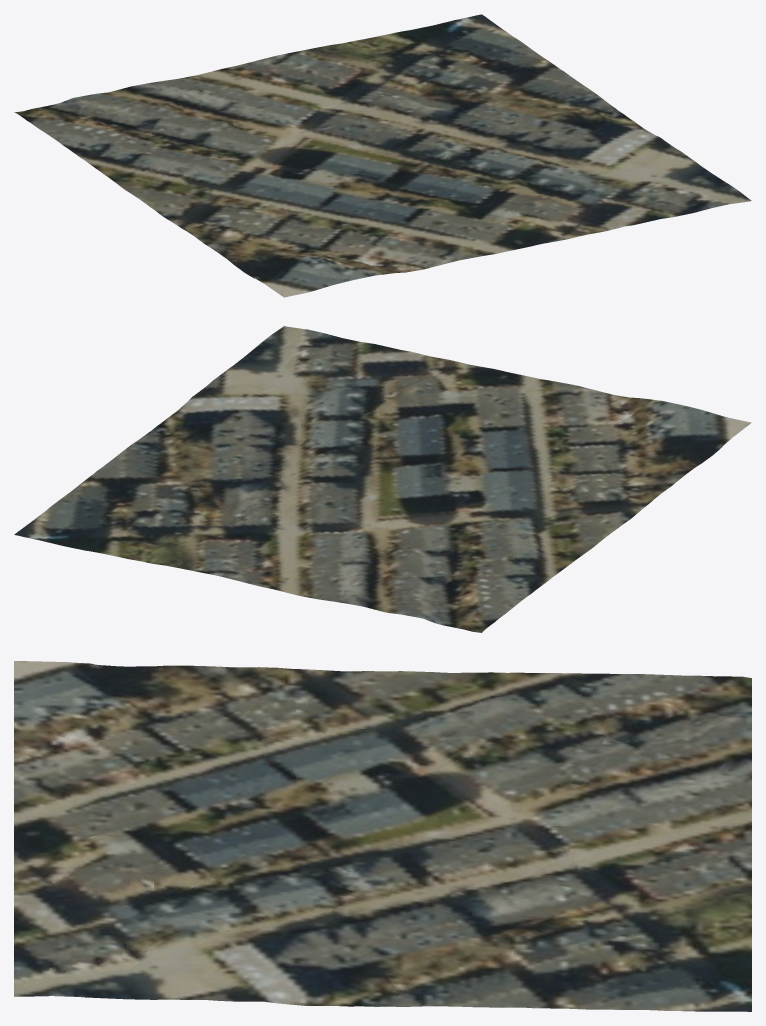
The picture shows the model from 3 angles, top to bottom: view 1: azimuth 30°, elevation 25°; view 2: azimuth 150°, elevation 25°; view 3: azimuth 270°, elevation 25°; orthographic projection. The views are drawn at different scales.
Bounding box in the file's own units: 104 × 6.25 × 104.
Materials: 3 (3 with a texture image).
